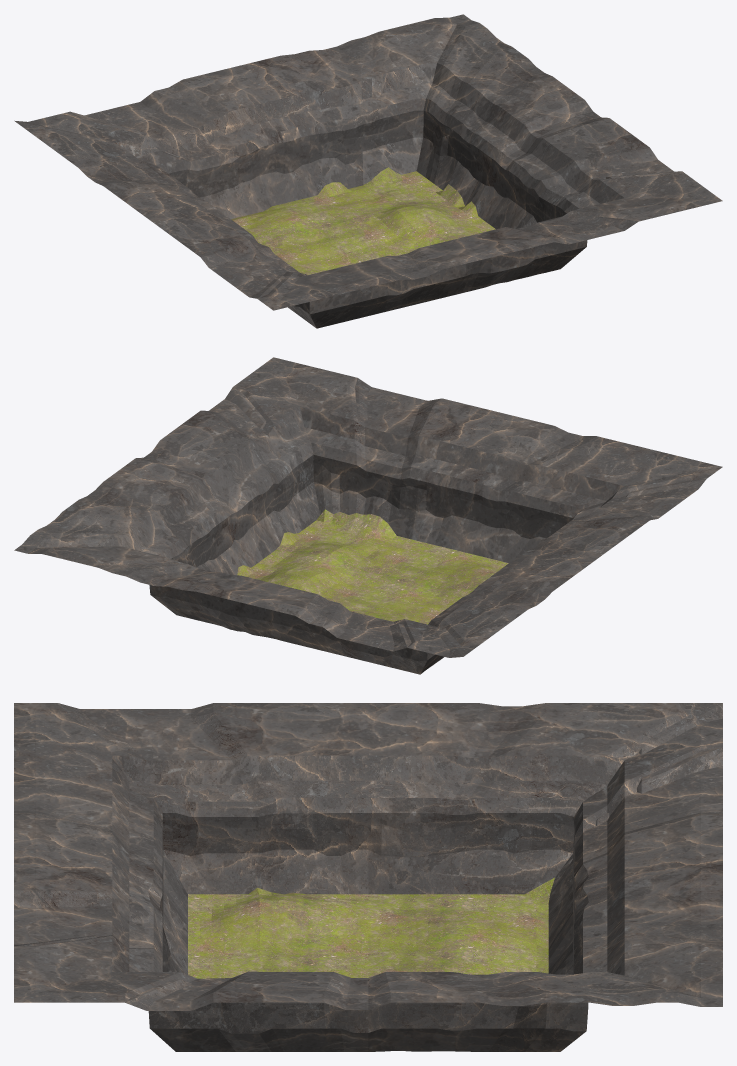
Rendered from Land.glb.
3 views of the same model, one above another, from view 1: azimuth 30°, elevation 25°; view 2: azimuth 150°, elevation 25°; view 3: azimuth 270°, elevation 25° (orthographic). The views are drawn at different scales.
Parts seen in each view (by area): view 1: Plane; view 2: Plane; view 3: Plane.
Boxes of the visible parts, x1,y1,x2,y2 form: Plane: (14,14,722,328); Plane: (14,357,722,674); Plane: (14,703,722,1051).
Size of the model in its own units: 58.54 by 11.16 by 58.54.
Materials: 2 (2 with a texture image).
